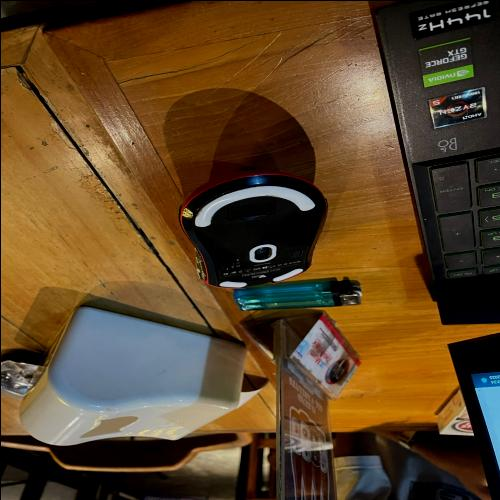Mouse: (148, 162, 333, 292)
